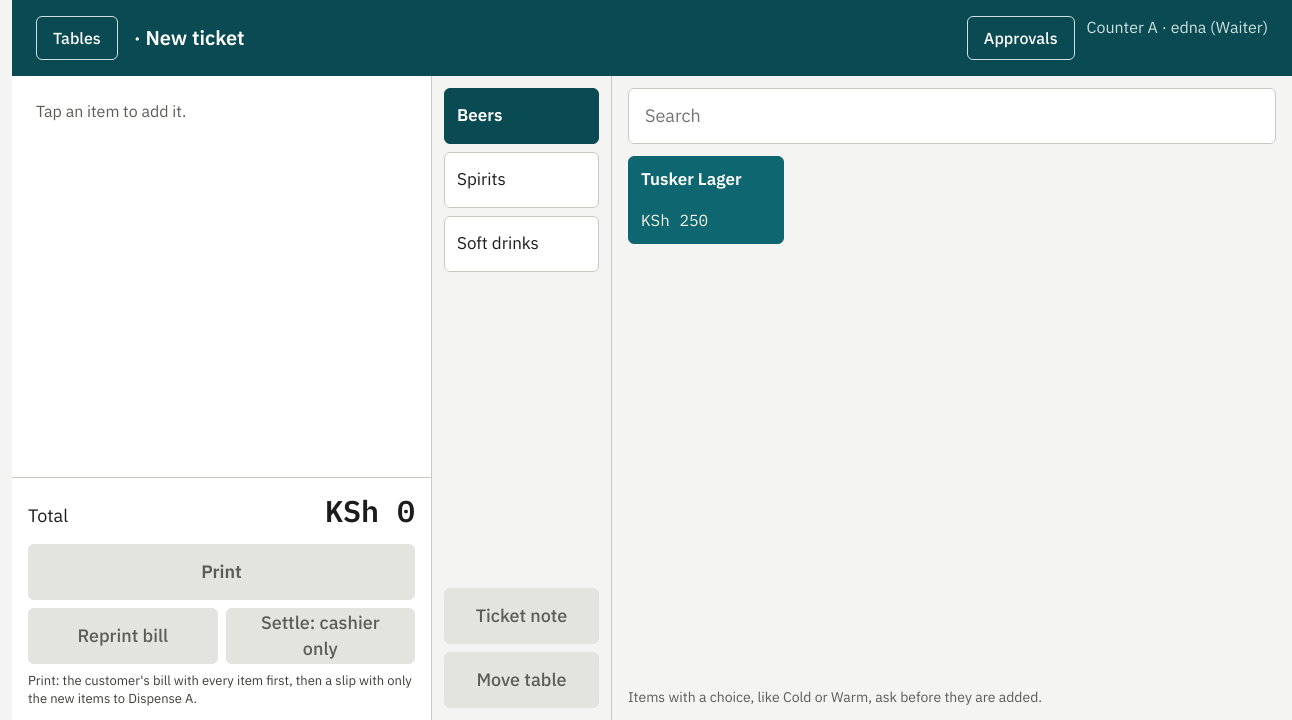
order screen › the first add on a new ticket saves it and moves to its address
The width and height of the screenshot is (1292, 720).
Expected: the heading "· New ticket" is shown, top-left (134, 24), bottom-right (245, 52)
Click the button "Soft drinks" at (522, 244), box top-left (444, 216), bottom-right (599, 272)
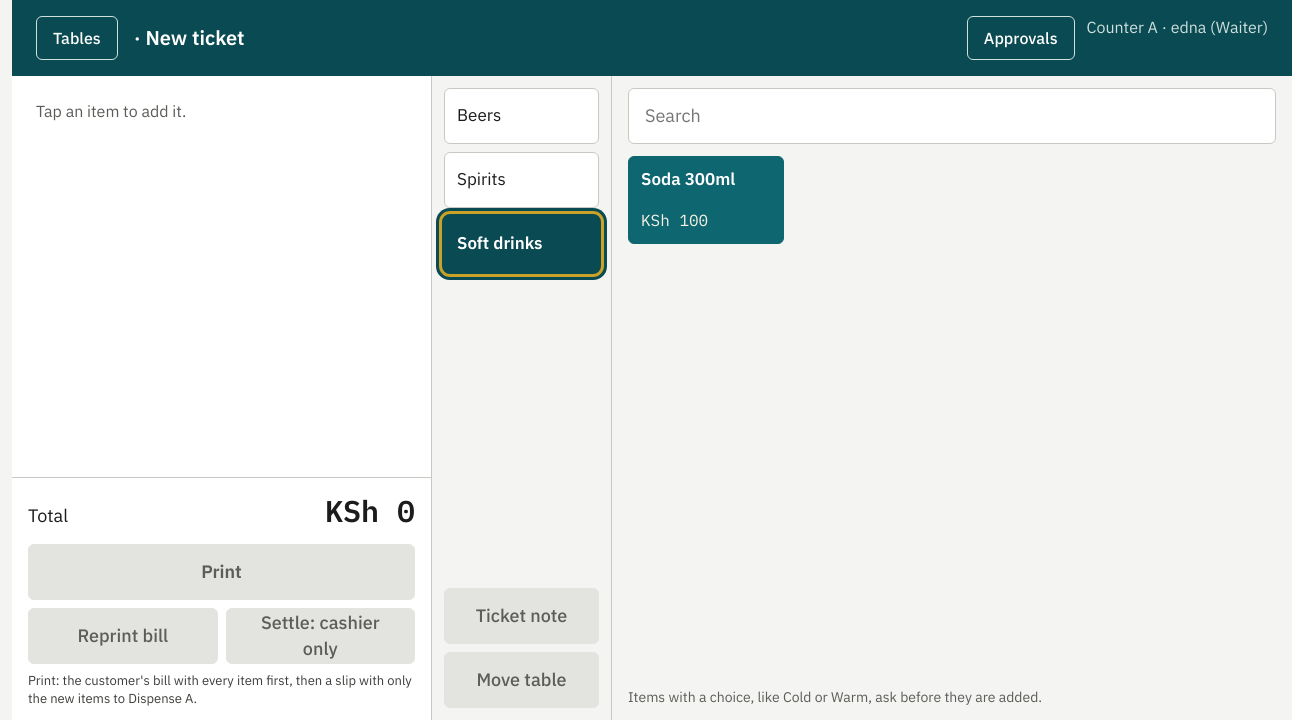
Click the button "Soda 300ml KSh 100" at (706, 200), box top-left (628, 156), bottom-right (784, 244)
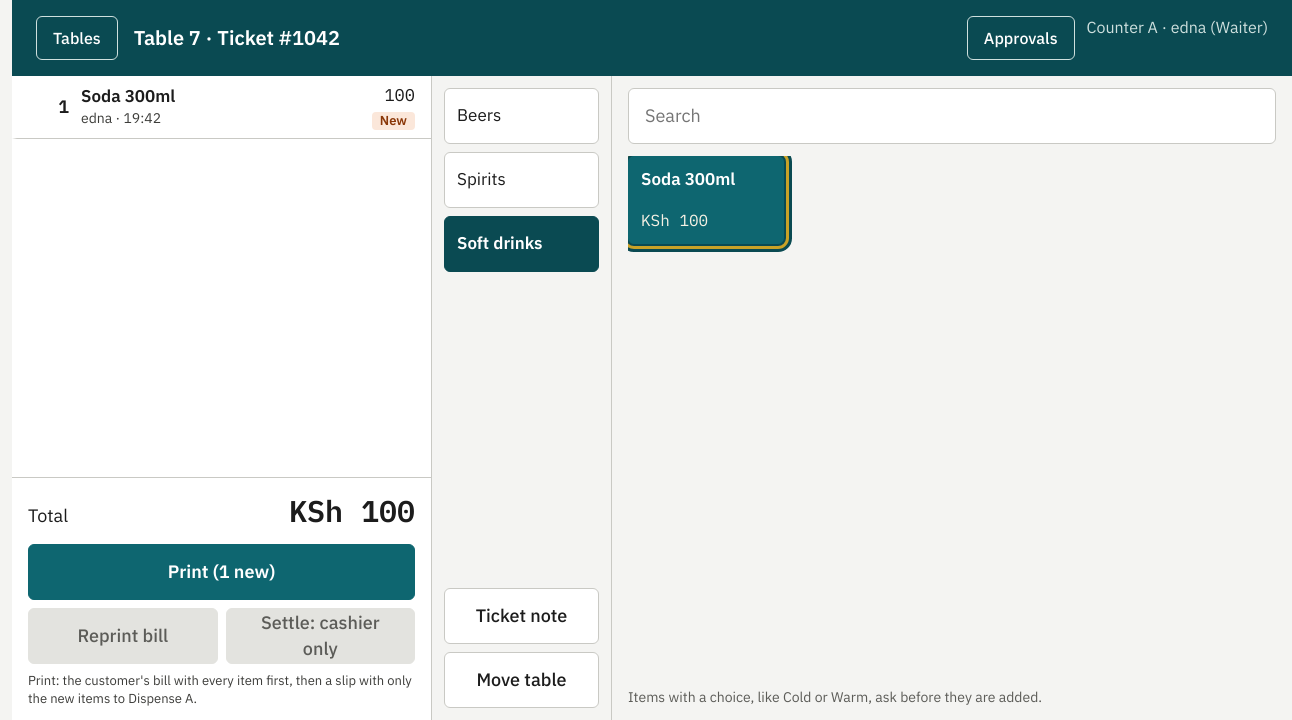
Result: the heading "Table 7 · Ticket #1042" is shown at top-left (134, 24), bottom-right (340, 52)
